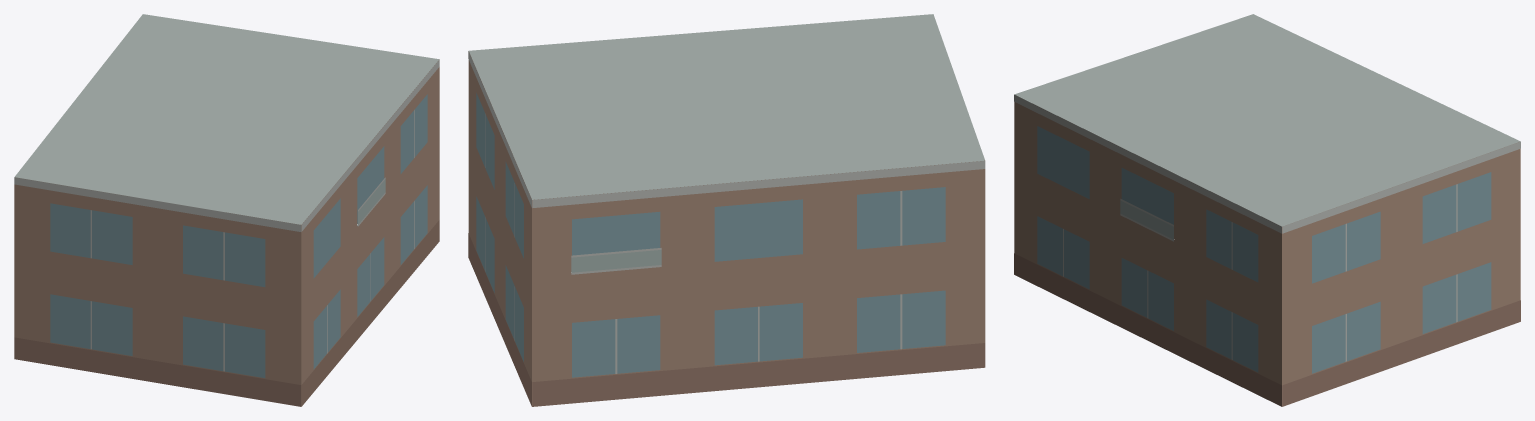
The model's file is survey-upis-32771633.glb.
3 renders of one model, left to right at view 1: azimuth 30°, elevation 25°; view 2: azimuth 150°, elevation 25°; view 3: azimuth 270°, elevation 25°, orthographic. The views are drawn at different scales.
Parts seen in each view (by area): view 1: survey-upis-32771633.tmp; view 2: survey-upis-32771633.tmp; view 3: survey-upis-32771633.tmp.
Boxes of the visible parts, x1,y1,x2,y2 form: survey-upis-32771633.tmp: (14,14,439,406); survey-upis-32771633.tmp: (468,14,985,406); survey-upis-32771633.tmp: (1014,14,1520,406).
Bounding box in the file's own units: 15.44 × 6.1 × 15.55.
